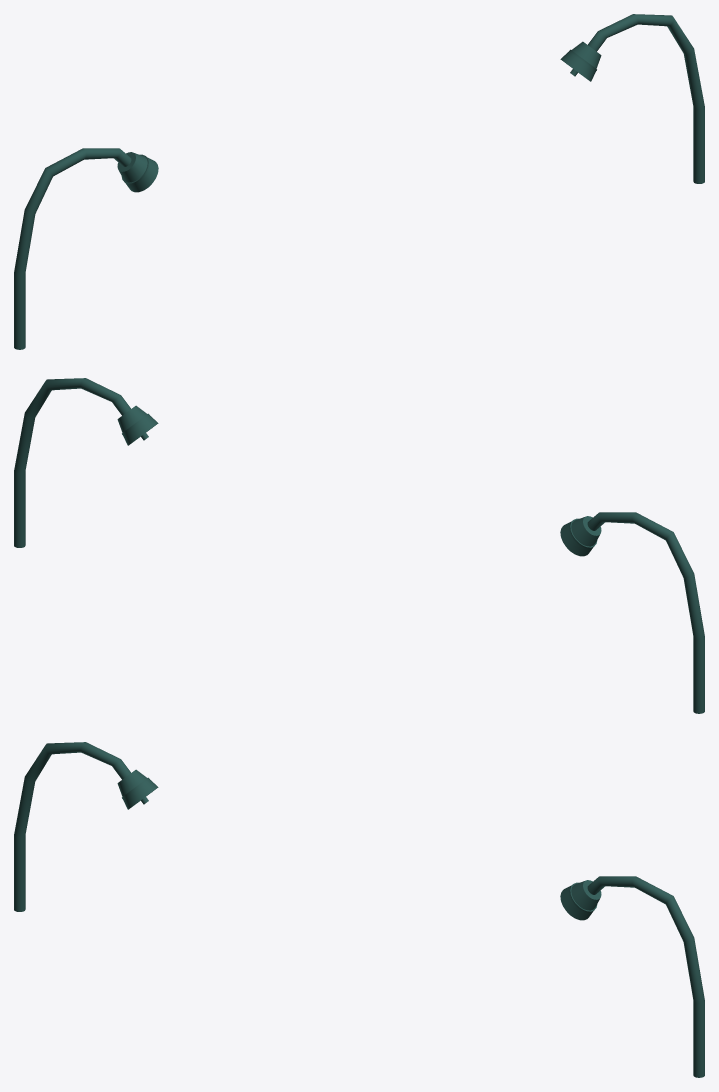
The model's file is ShowerHeads.fbx.
The picture shows the model from 3 angles, top to bottom: view 1: azimuth 30°, elevation 25°; view 2: azimuth 150°, elevation 25°; view 3: azimuth 330°, elevation 25°; orthographic projection.
Visible parts, largest first — view 1: sprinkler, sprinkler1; view 2: sprinkler, sprinkler1; view 3: sprinkler1, sprinkler.
Part boxes in pixels (x1=…): sprinkler: x1=14, y1=148, x2=158, y2=349; sprinkler1: x1=560, y1=14, x2=704, y2=183; sprinkler: x1=560, y1=512, x2=704, y2=713; sprinkler1: x1=14, y1=378, x2=158, y2=547; sprinkler1: x1=560, y1=876, x2=704, y2=1077; sprinkler: x1=14, y1=742, x2=158, y2=911.
Size of the model in its own units: 82.4 by 20.9 by 3.95.
